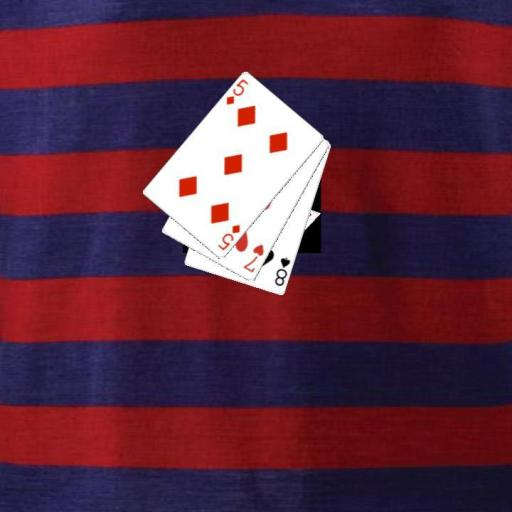5D: (215, 221, 242, 253), (223, 76, 250, 107)
7H: (241, 241, 266, 275)
8S: (272, 254, 292, 288)
